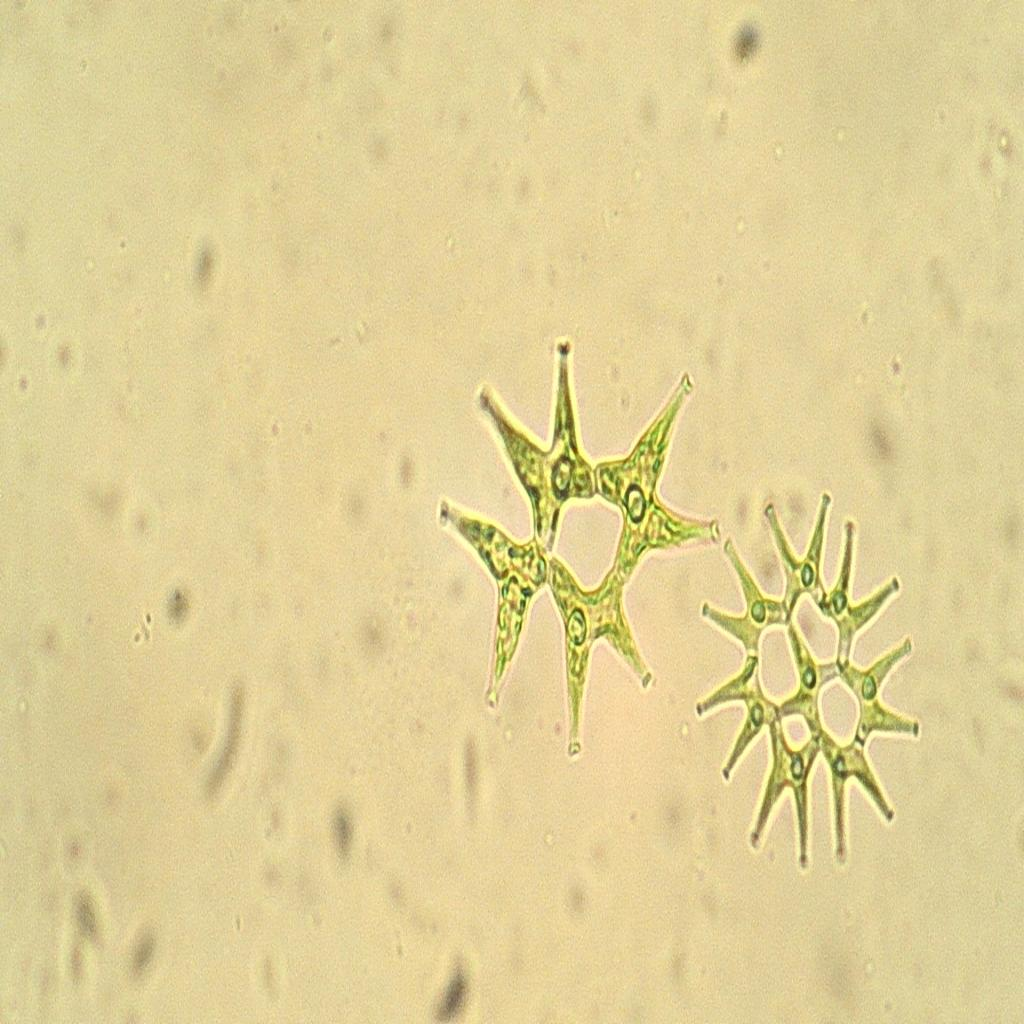Pediastrum_75FI: (431, 297, 730, 773)
